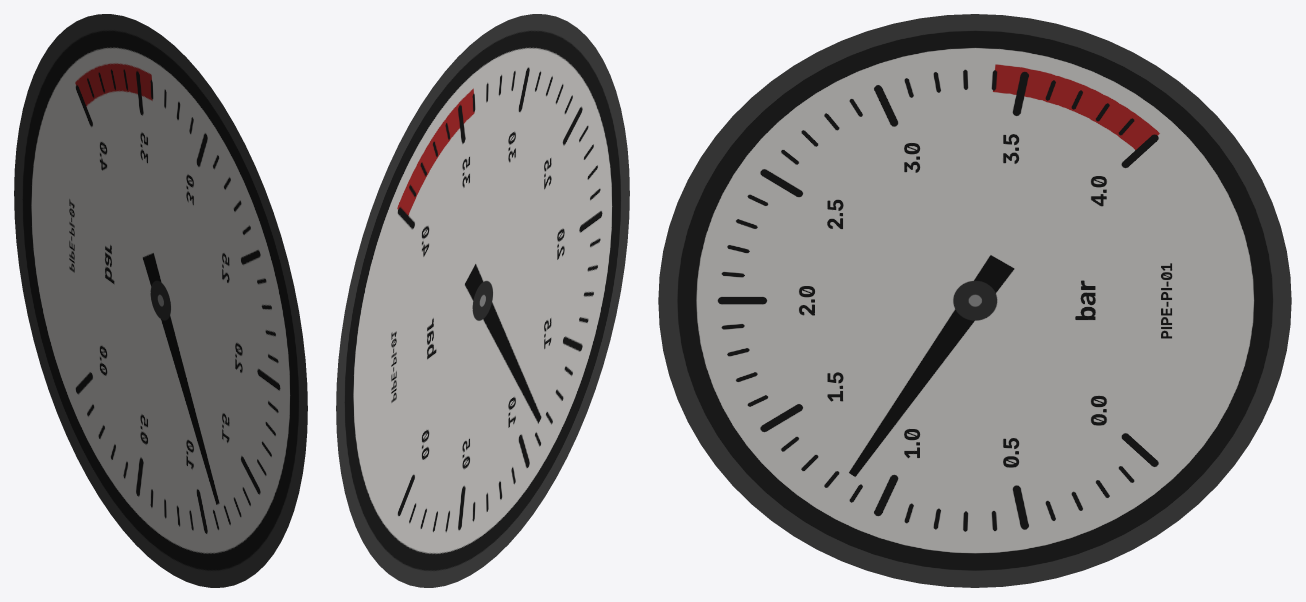
Rendered from dial.obj.
The picture shows the model from 3 angles, left to right: view 1: azimuth 30°, elevation 25°; view 2: azimuth 150°, elevation 25°; view 3: azimuth 270°, elevation 25°; orthographic projection. The views are drawn at different scales.
Parts seen in each view (by area): view 1: gauge_g06_dial; view 2: gauge_g06_dial; view 3: gauge_g06_dial.
Boxes of the visible parts, x1=… form: gauge_g06_dial: x1=14, y1=14, x2=307, y2=587; gauge_g06_dial: x1=336, y1=14, x2=629, y2=587; gauge_g06_dial: x1=658, y1=14, x2=1291, y2=587.
Bounding box in the file's own units: 0 × 0.3 × 0.3.
1 material, 1 textured.
